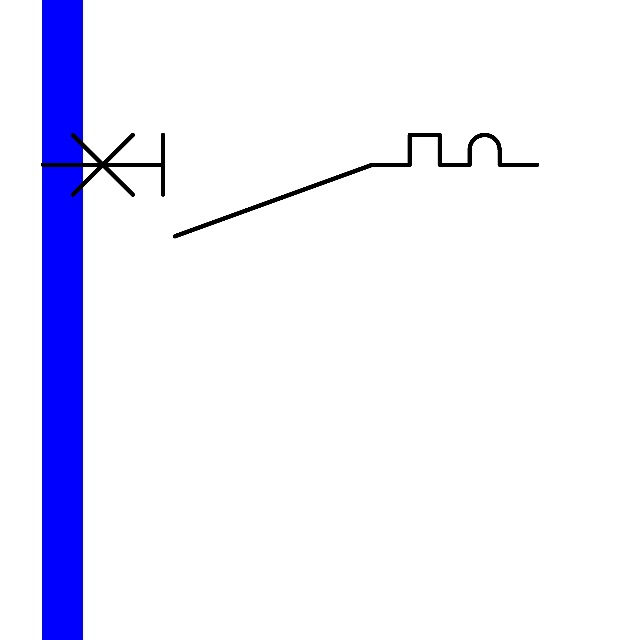interruptor_termomagnetico: (30, 122, 550, 249)
